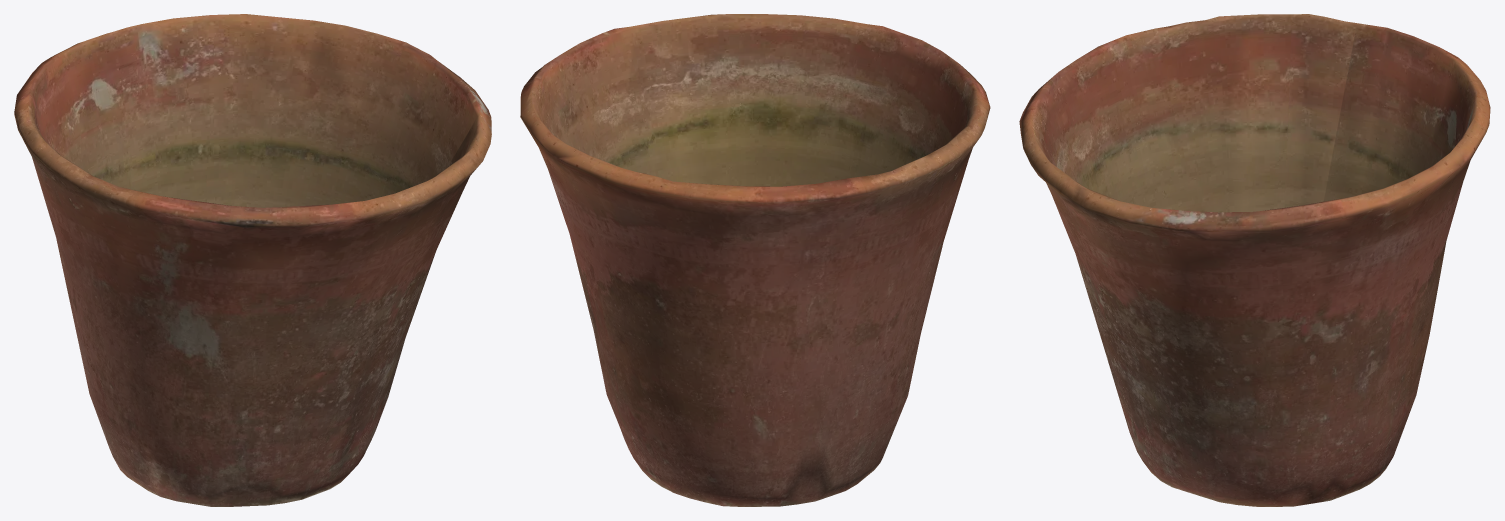
File: prop-planter-8e126c0a.glb
3 views of the same model, side by side, from view 1: azimuth 30°, elevation 25°; view 2: azimuth 150°, elevation 25°; view 3: azimuth 270°, elevation 25° (orthographic).
Parts seen in each view (by area): view 1: planter_pot_clay; view 2: planter_pot_clay; view 3: planter_pot_clay.
Part boxes in pixels (left/top/right/bottom): planter_pot_clay: left=14, top=14, right=491, bottom=506; planter_pot_clay: left=520, top=14, right=990, bottom=506; planter_pot_clay: left=1019, top=14, right=1490, bottom=506.
Bounding box in the file's own units: 0.266 × 0.2218 × 0.2635.
1 material, 1 textured.
